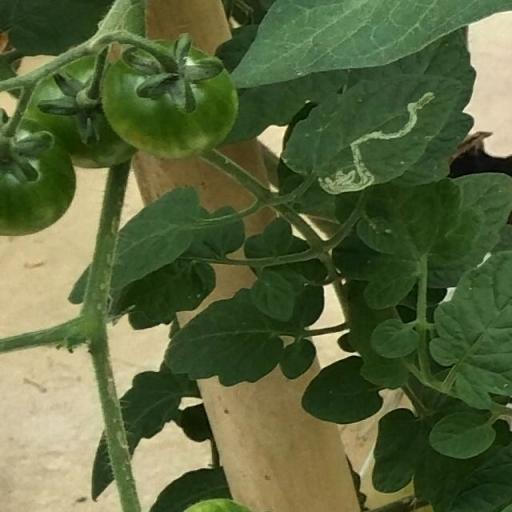disease_tomato: (278, 70, 464, 196)
